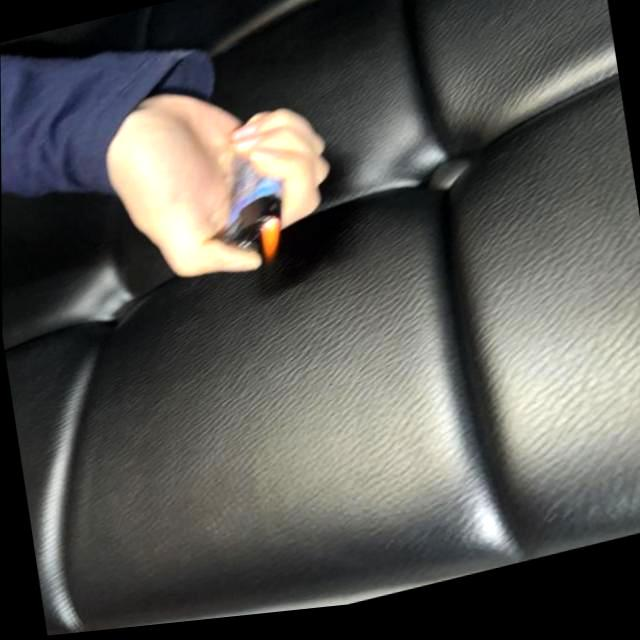fire: (253, 221, 283, 267)
